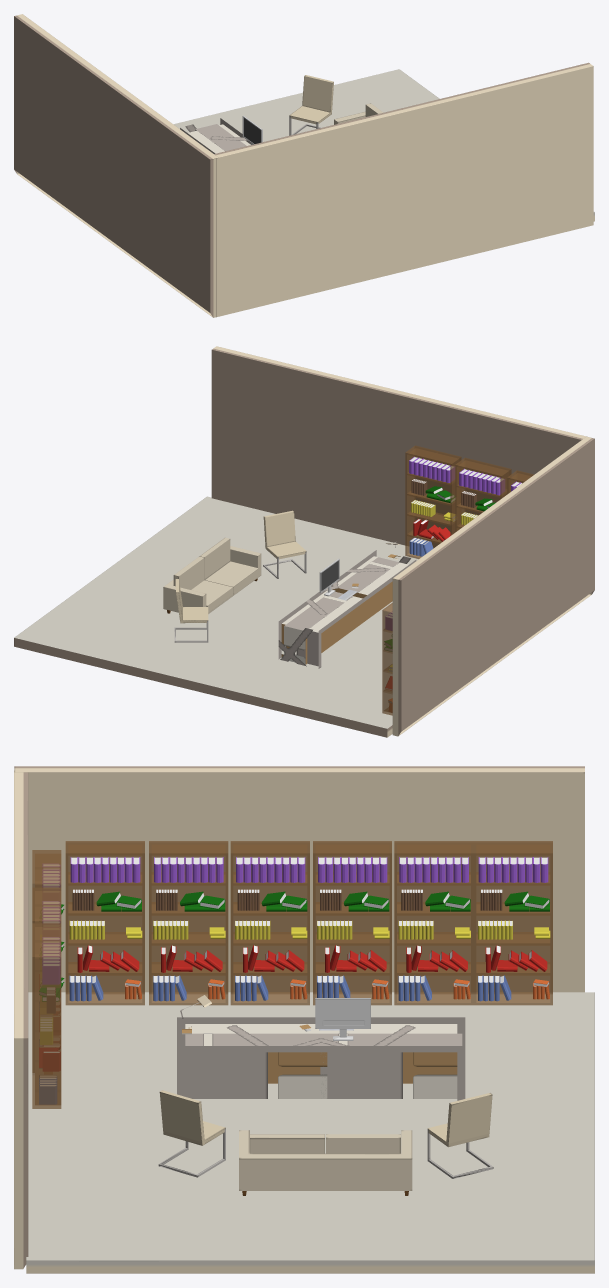
Rendered from office.fbx.
3 renders of one model, top to bottom at view 1: azimuth 30°, elevation 25°; view 2: azimuth 150°, elevation 25°; view 3: azimuth 270°, elevation 25°, orthographic. The views are drawn at different scales.
Visible parts, largest first — view 1: Cube.094, Cube.095, Cube.003, Cube.064, Cube.084; view 2: Cube.094, Cube.003, Cube.095, Cube.064, Cube.077, Cube.082, Cube.084; view 3: Cube.095, Cube.003, Cube.064, Cube.094, Cube.077, Cube.084, Cube.082.
Boxes of the visible parts, x1,y1,x2,y2 form: Cube.094: (214,62,593,316); Cube.095: (14,14,218,317); Cube.003: (174,69,594,221); Cube.064: (180,115,262,153); Cube.084: (289,75,333,135); Cube.094: (211,346,586,558); Cube.003: (14,496,420,737); Cube.095: (382,436,594,736); Cube.064: (278,541,416,668); Cube.077: (163,537,261,613); Cube.082: (263,510,306,578); Cube.084: (174,579,208,642); Cube.095: (14,766,584,1005); Cube.003: (26,992,594,1273); Cube.064: (177,995,465,1100); Cube.094: (14,771,64,1269); Cube.077: (239,1130,412,1195); Cube.084: (427,1093,493,1178); Cube.082: (158,1090,225,1177).
Bounding box in the file's own units: 1112 × 436 × 990.
